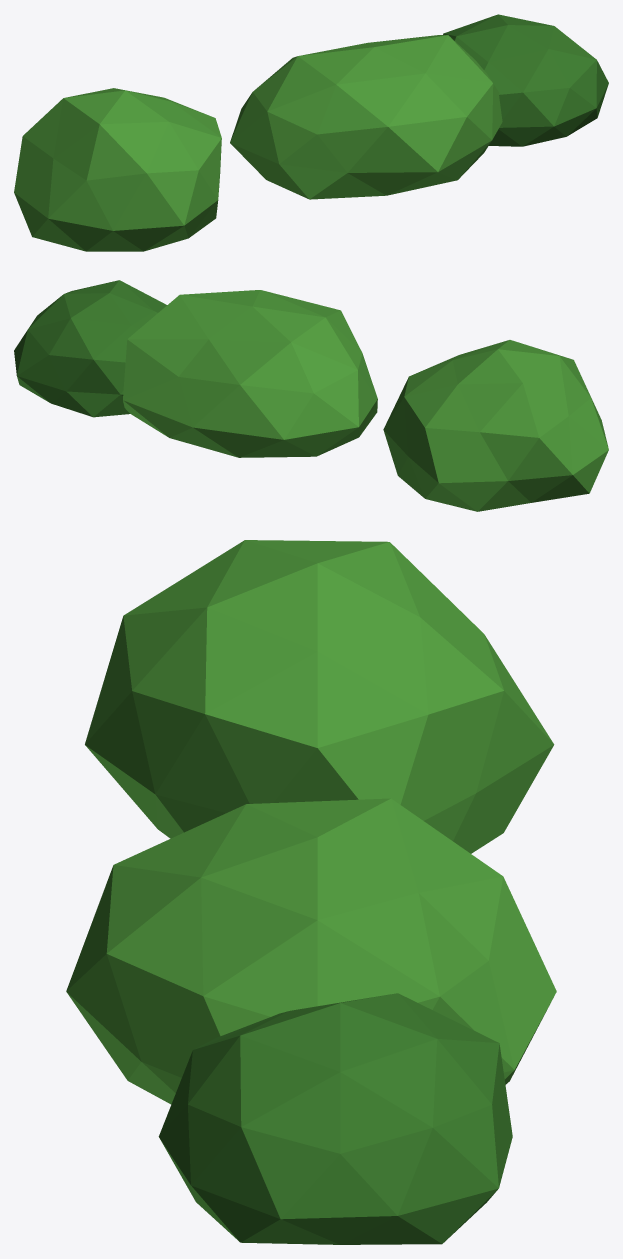
Rendered from semak_v001.glb.
The picture shows the model from 3 angles, top to bottom: view 1: azimuth 30°, elevation 25°; view 2: azimuth 150°, elevation 25°; view 3: azimuth 270°, elevation 25°; orthographic projection. The views are drawn at different scales.
Parts seen in each view (by area): view 1: semak_b, semak_a; view 2: semak_b, semak_a; view 3: semak_b, semak_a.
Boxes of the visible parts, x1=… form: semak_b: x1=230, y1=14, x2=608, y2=199; semak_a: x1=14, y1=88, x2=221, y2=251; semak_b: x1=14, y1=280, x2=377, y2=457; semak_a: x1=383, y1=340, x2=608, y2=511; semak_b: x1=66, y1=798, x2=556, y2=1244; semak_a: x1=85, y1=540, x2=554, y2=853.
Size of the model in its own units: 2.86 by 0.5945 by 1.08.
